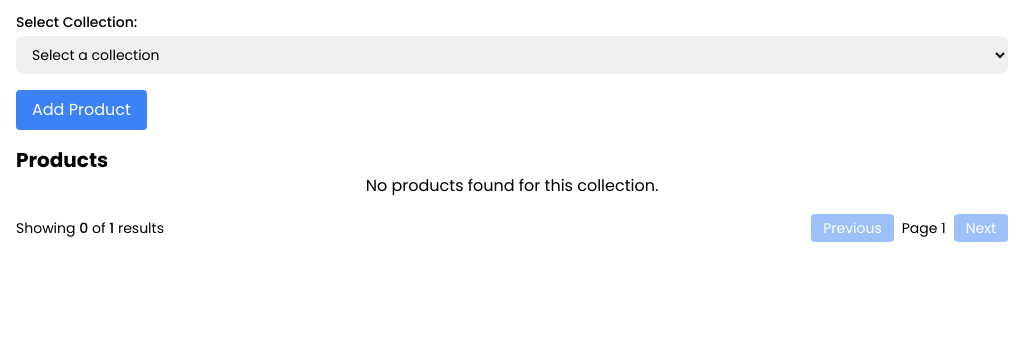
Scenario: ViewProducts › enables and handles next button when not on last page
Select "Collection 1" in the dropdown labelled "Select Collection:": (512, 55) left=16, top=36, right=1008, bottom=74
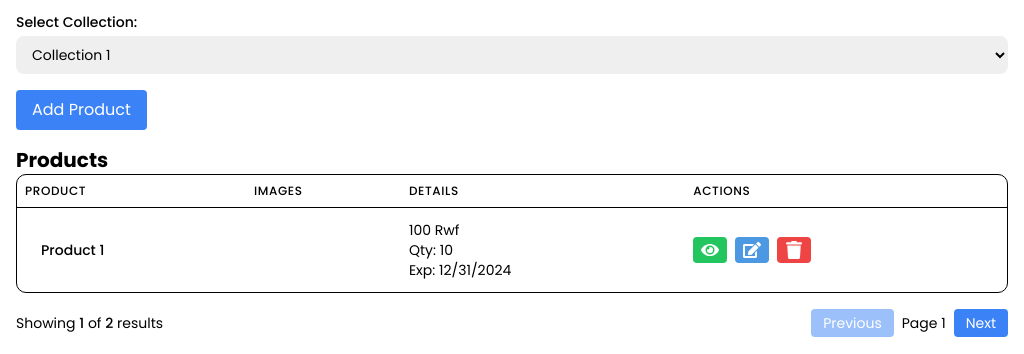
Expected: the text "Product 1" is shown, left=41, top=240, right=104, bottom=260
Expected: the button "Next" is enabled
Click the button "Next": (981, 323) left=954, top=309, right=1008, bottom=337
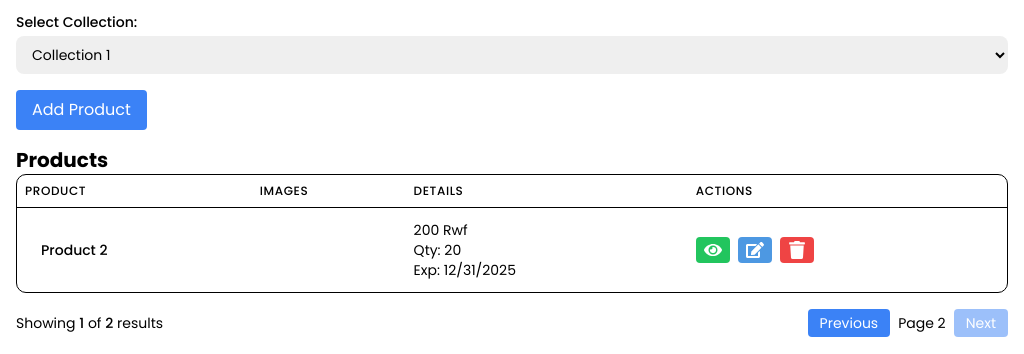
Expected: the text "Product 2" is shown, left=41, top=240, right=108, bottom=260
